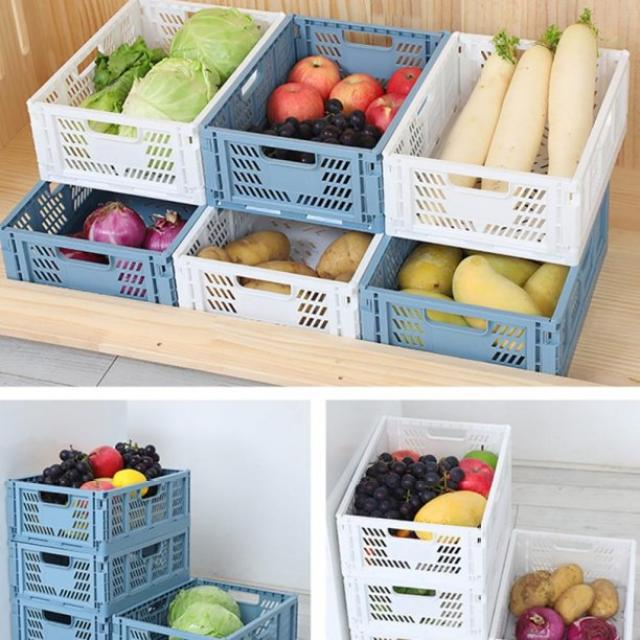basket: (373, 24, 636, 271), (191, 6, 450, 238), (354, 171, 613, 378), (329, 416, 520, 640), (165, 202, 382, 340), (0, 175, 205, 308), (7, 528, 191, 622), (491, 531, 640, 640), (6, 469, 190, 556), (112, 579, 297, 640), (13, 599, 111, 640)
